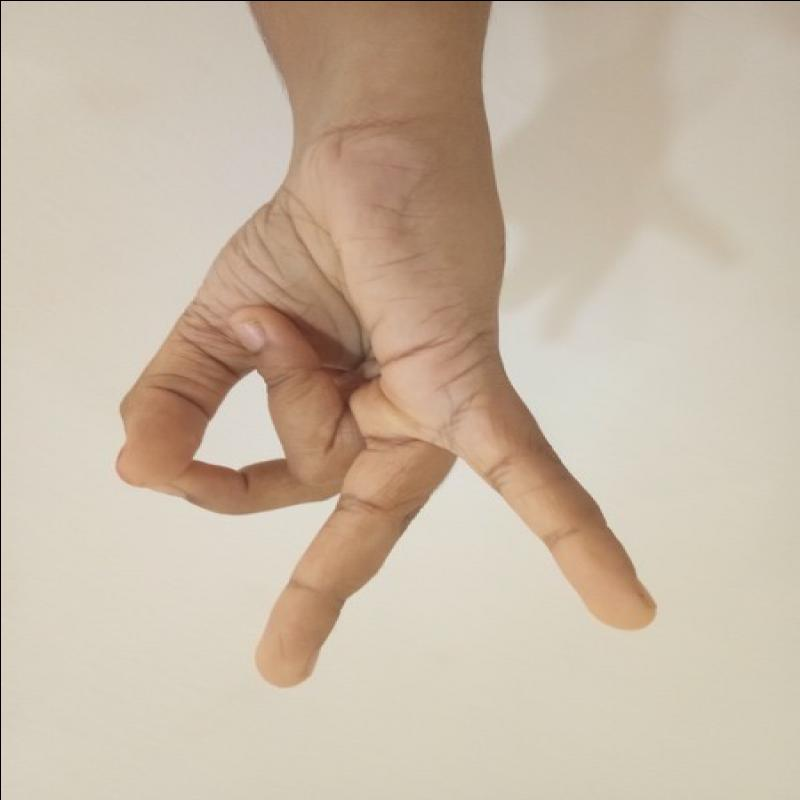Katakam: (93, 143, 677, 706)
